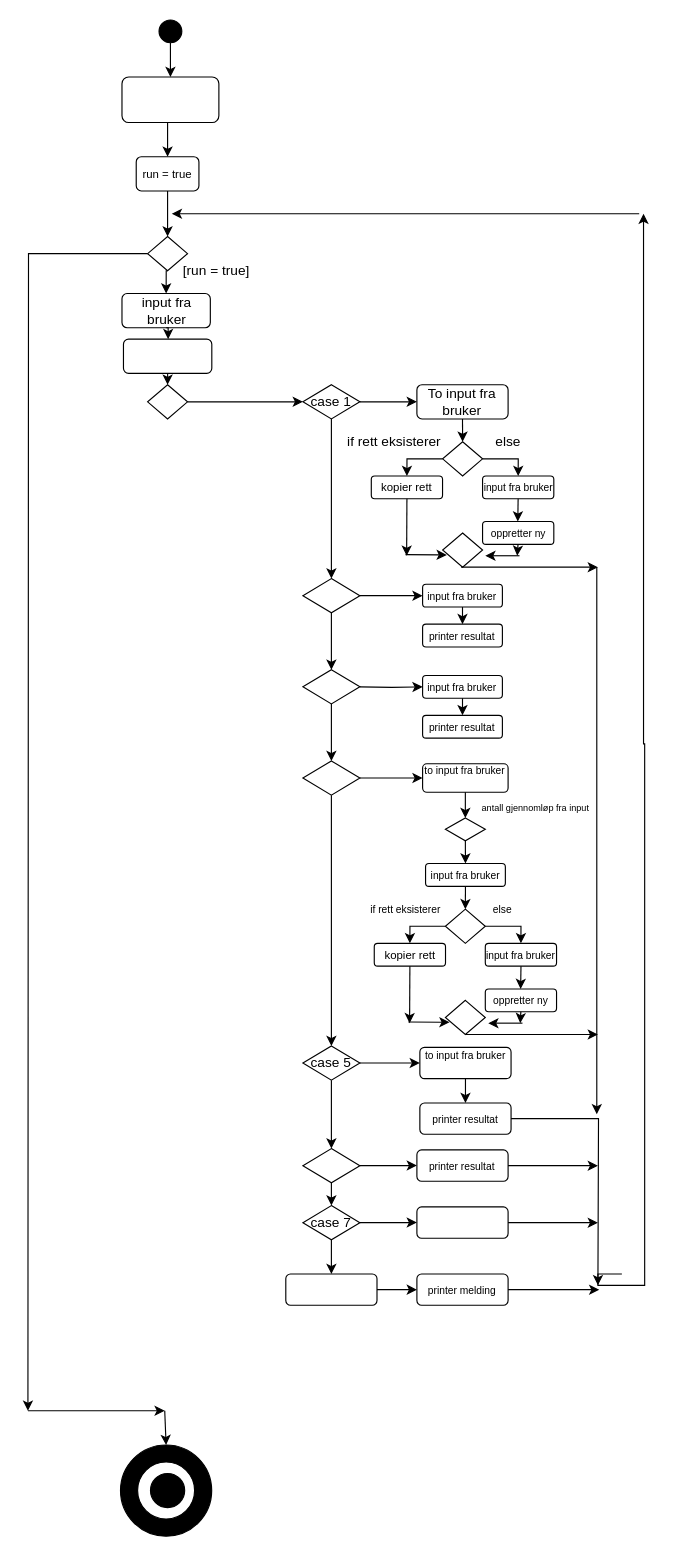
The diagram is 674 pixels wide and 1556 high, and some of its shapes have lost their labels. The box of each missing label's shape, as (x1, y1, x2, y2) in pixels:
case 2: (302, 577, 360, 613)
case 3: (302, 669, 360, 704)
case 4: (302, 760, 360, 795)
case 6: (302, 1147, 360, 1183)
default: (285, 1273, 377, 1305)
Oppretter nytt objekt av menyRegister: (121, 76, 219, 123)
Parser input: (122, 338, 212, 373)
run = false: (416, 1206, 508, 1238)
